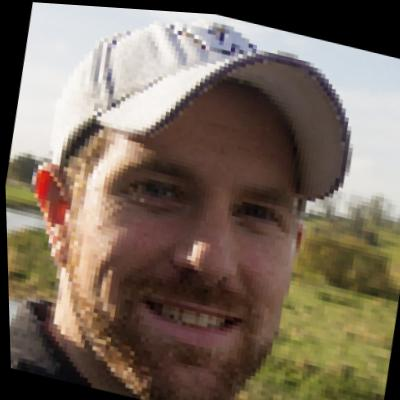happy: (45, 53, 323, 400)
